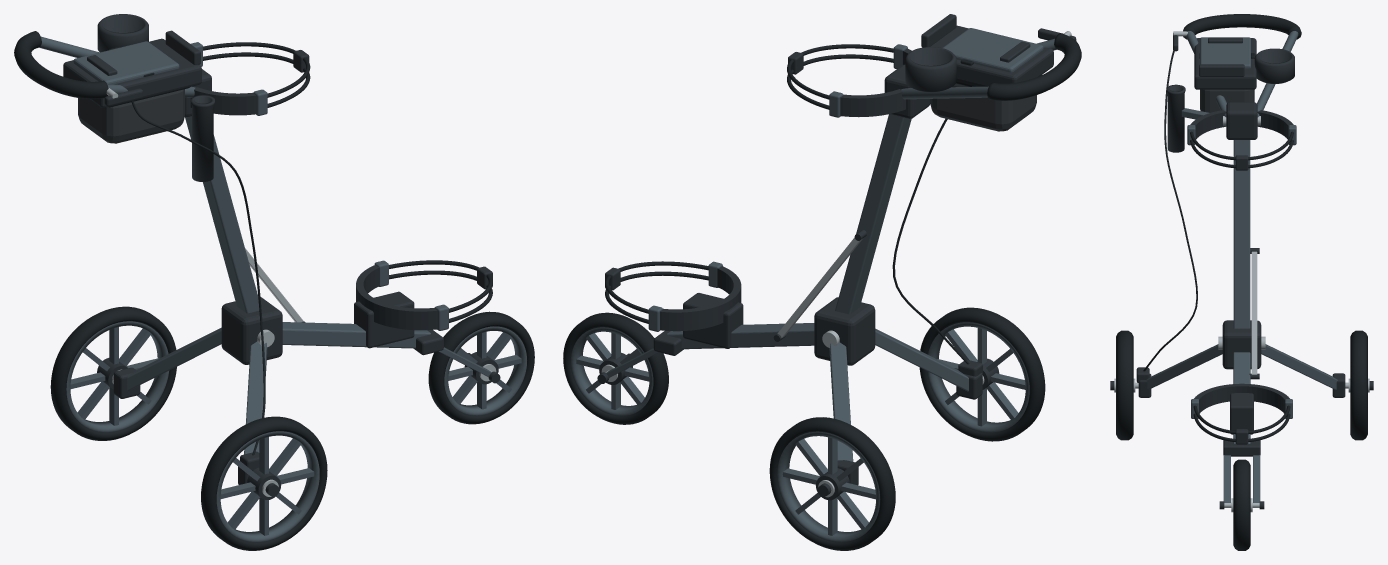
The picture shows the model from 3 angles, left to right: view 1: azimuth 30°, elevation 25°; view 2: azimuth 150°, elevation 25°; view 3: azimuth 270°, elevation 25°; orthographic projection. The views are drawn at different scales.
Parts seen in each view (by area): view 1: Rear left tire, Rear right tire, Soft under-console pouch, Inclined upper spine, Front tire, Main folding hinge body, Console scorecard lid, Console main body, Rear left open rim, Forward lower chassis, Rear right open rim, Lower curved bag saddle (+15 smaller); view 2: Inclined upper spine, Rear right tire, Rear left tire, Front tire, Main folding hinge body, Soft under-console pouch, Rear right open rim, Console scorecard lid, Rear left open rim, Lower curved bag saddle, Rounded U rubber push grip, Forward lower chassis (+16 smaller); view 3: Inclined upper spine, Rear left tire, Rear right tire, Front tire, Rounded U rubber push grip, Lower curved bag saddle, Main folding hinge body, Open cup holder with closed bottom, Console scorecard lid, Console main body, Upper spine pivot housing, Empty umbrella holder (+17 smaller).
Boxes of the visible parts, x1=… form: Rear left tire: x1=201, y1=416, x2=327, y2=550; Rear right tire: x1=50, y1=306, x2=176, y2=440; Soft under-console pouch: x1=78, y1=89, x2=184, y2=143; Inclined upper spine: x1=185, y1=116, x2=261, y2=313; Front tire: x1=428, y1=311, x2=534, y2=424; Main folding hinge body: x1=221, y1=297, x2=282, y2=364; Console scorecard lid: x1=73, y1=41, x2=179, y2=84; Console main body: x1=63, y1=38, x2=201, y2=107; Rear left open rim: x1=216, y1=431, x2=319, y2=541; Forward lower chassis: x1=282, y1=322, x2=430, y2=348; Rear right open rim: x1=66, y1=321, x2=168, y2=432; Lower curved bag saddle: x1=356, y1=265, x2=437, y2=330; Inclined upper spine: x1=835, y1=114, x2=911, y2=314; Rear right tire: x1=769, y1=417, x2=895, y2=550; Rear left tire: x1=919, y1=307, x2=1045, y2=441; Front tire: x1=563, y1=312, x2=668, y2=424; Main folding hinge body: x1=814, y1=297, x2=875, y2=365; Soft under-console pouch: x1=930, y1=83, x2=1036, y2=131; Rear right open rim: x1=777, y1=431, x2=879, y2=542; Console scorecard lid: x1=942, y1=28, x2=1043, y2=72; Rear left open rim: x1=927, y1=322, x2=1029, y2=432; Lower curved bag saddle: x1=660, y1=266, x2=741, y2=331; Rounded U rubber push grip: x1=987, y1=33, x2=1081, y2=100; Forward lower chassis: x1=666, y1=323, x2=814, y2=349; Inclined upper spine: x1=1233, y1=140, x2=1250, y2=328; Rear left tire: x1=1116, y1=330, x2=1133, y2=440; Rear right tire: x1=1350, y1=330, x2=1367, y2=440; Front tire: x1=1233, y1=459, x2=1250, y2=550; Rounded U rubber push grip: x1=1183, y1=14, x2=1301, y2=39; Lower curved bag saddle: x1=1194, y1=383, x2=1289, y2=413; Main folding hinge body: x1=1222, y1=320, x2=1261, y2=369; Open cup holder with closed bottom: x1=1254, y1=48, x2=1294, y2=83; Console scorecard lid: x1=1200, y1=37, x2=1250, y2=68; Console main body: x1=1194, y1=38, x2=1256, y2=89; Upper spine pivot housing: x1=1226, y1=102, x2=1257, y2=139; Empty umbrella holder: x1=1166, y1=84, x2=1185, y2=152.
Bounding box in the file's own units: 1.24 × 1.09 × 0.72.
